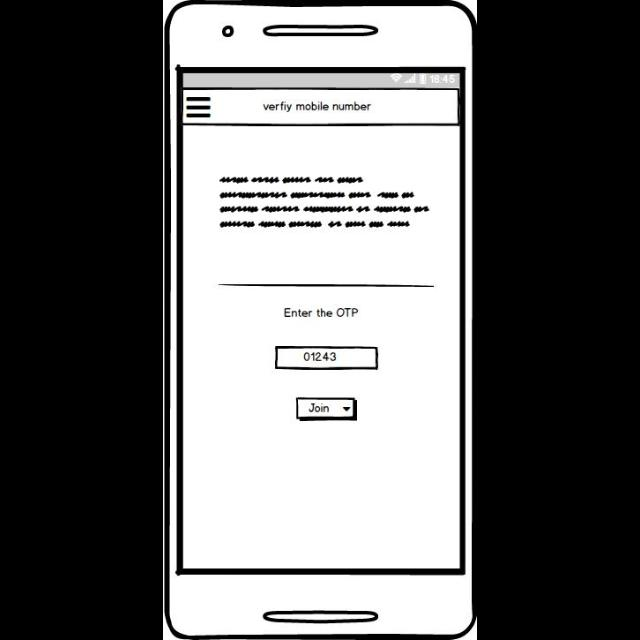icon: (187, 97, 211, 119)
input: (275, 346, 379, 370)
text: (220, 178, 430, 228), (264, 102, 372, 114), (284, 307, 358, 317)
textbutton: (297, 398, 357, 422)
toolbar: (184, 90, 458, 124)
